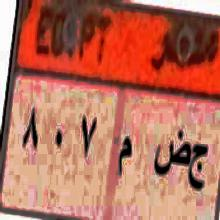0: (54, 120, 65, 162)
7: (77, 108, 96, 164)
8: (20, 98, 40, 164)
daad: (153, 126, 190, 184)
jeem: (190, 138, 210, 202)
meem: (114, 124, 135, 189)
